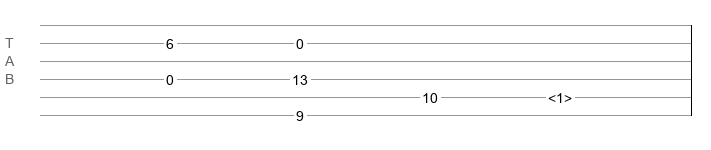0: (166, 72, 174, 82), (296, 36, 304, 46)
10: (422, 90, 438, 100)
13: (292, 72, 308, 82)
6: (166, 36, 174, 46)
9: (296, 108, 304, 118)
harmonic: (548, 90, 572, 100)
